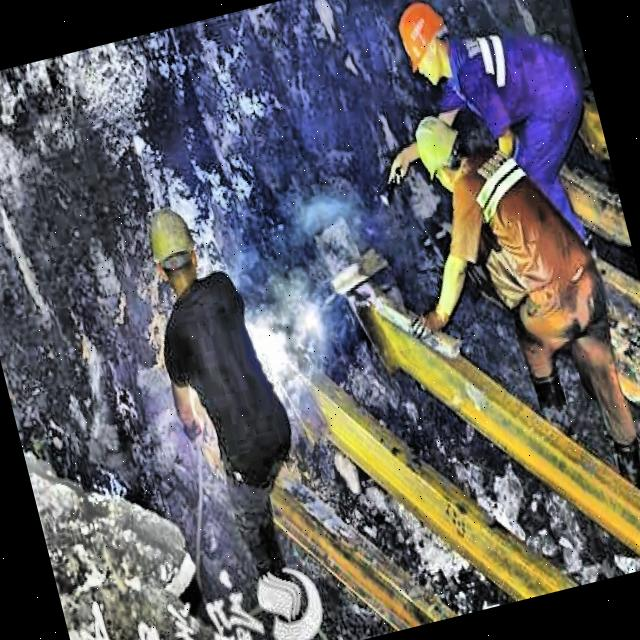helmet: (137, 196, 210, 305), (387, 0, 466, 94), (406, 111, 470, 189)
